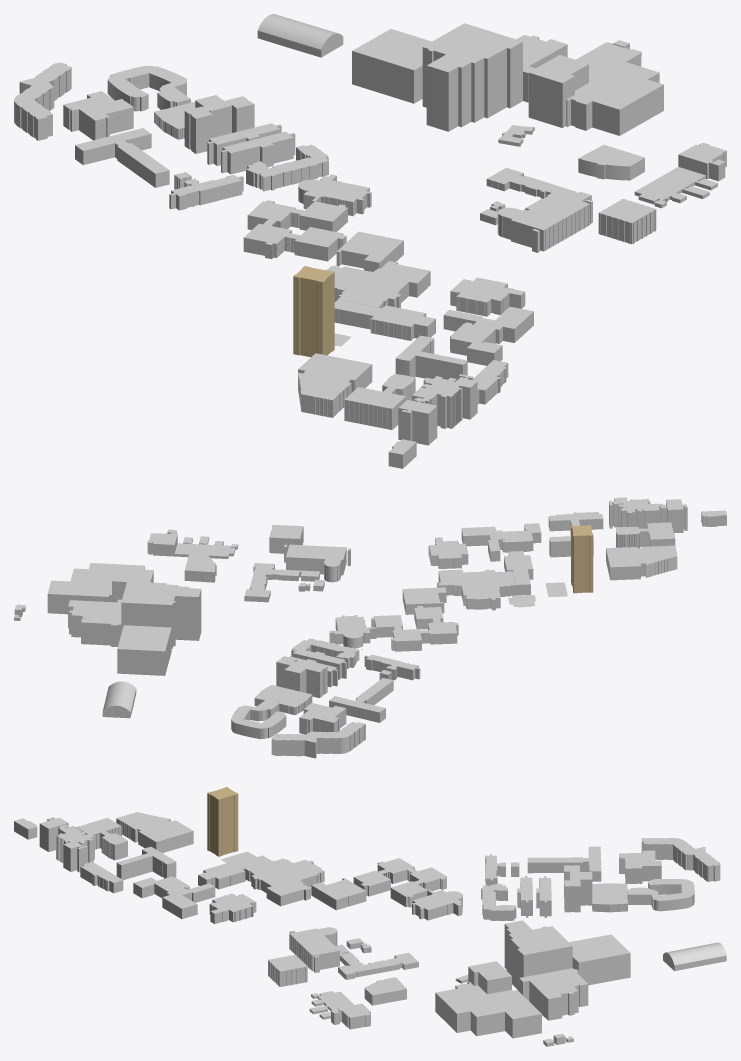
File: carletonunibeige.dae
The picture shows the model from 3 angles, top to bottom: view 1: azimuth 30°, elevation 25°; view 2: azimuth 150°, elevation 25°; view 3: azimuth 270°, elevation 25°; orthographic projection. The views are drawn at different scales.
Parts seen in each view (by area): view 1: Carleton_University_Campus (×11), group_9, group_23, group_1, group_11, group_6, group_15, group_5, group_2, group_10, group_17, group_13 (+11 smaller); view 2: Carleton_University_Campus (×11), group_9, group_11, group_23, group_6, group_2, group_15, group_1, group_5, group_17, group_13, group_4 (+10 smaller); view 3: Carleton_University_Campus (×10), group_9, group_11, group_23, group_1, group_6, group_2, group_20, group_5, group_17, group_4, group_25 (+11 smaller).
Part boxes in pixels (left/top/right/bottom): Carleton_University_Campus (×11): left=14, top=14, right=726, bottom=417; group_9: left=243, top=200, right=347, bottom=261; group_23: left=398, top=374, right=477, bottom=445; group_1: left=293, top=266, right=334, bottom=357; group_11: left=325, top=261, right=430, bottom=308; group_6: left=443, top=306, right=533, bottom=365; group_15: left=184, top=95, right=254, bottom=153; group_5: left=75, top=128, right=169, bottom=187; group_2: left=107, top=65, right=190, bottom=111; group_10: left=334, top=299, right=435, bottom=340; group_17: left=344, top=374, right=415, bottom=429; group_13: left=63, top=91, right=133, bottom=140; Carleton_University_Campus (×11): left=47, top=529, right=677, bottom=758; group_9: left=371, top=606, right=458, bottom=651; group_11: left=437, top=569, right=515, bottom=610; group_23: left=609, top=497, right=687, bottom=533; group_6: left=461, top=523, right=541, bottom=561; group_2: left=231, top=698, right=286, bottom=739; group_15: left=276, top=656, right=327, bottom=698; group_1: left=571, top=525, right=593, bottom=593; group_5: left=329, top=678, right=393, bottom=722; group_17: left=616, top=522, right=675, bottom=548; group_13: left=299, top=703, right=346, bottom=734; group_4: left=329, top=615, right=376, bottom=648; Carleton_University_Campus (×10): left=116, top=812, right=726, bottom=1038; group_9: left=353, top=858, right=446, bottom=907; group_11: left=244, top=859, right=324, bottom=906; group_23: left=39, top=817, right=94, bottom=872; group_1: left=207, top=787, right=238, bottom=856; group_6: left=133, top=876, right=215, bottom=918; group_2: left=627, top=879, right=694, bottom=911; group_20: left=116, top=846, right=176, bottom=879; group_5: left=527, top=846, right=601, bottom=881; group_17: left=76, top=817, right=127, bottom=860; group_4: left=412, top=890, right=462, bottom=920; group_25: left=311, top=878, right=366, bottom=910.
Bounding box in the file's own units: 26390 × 35831 × 3365.
